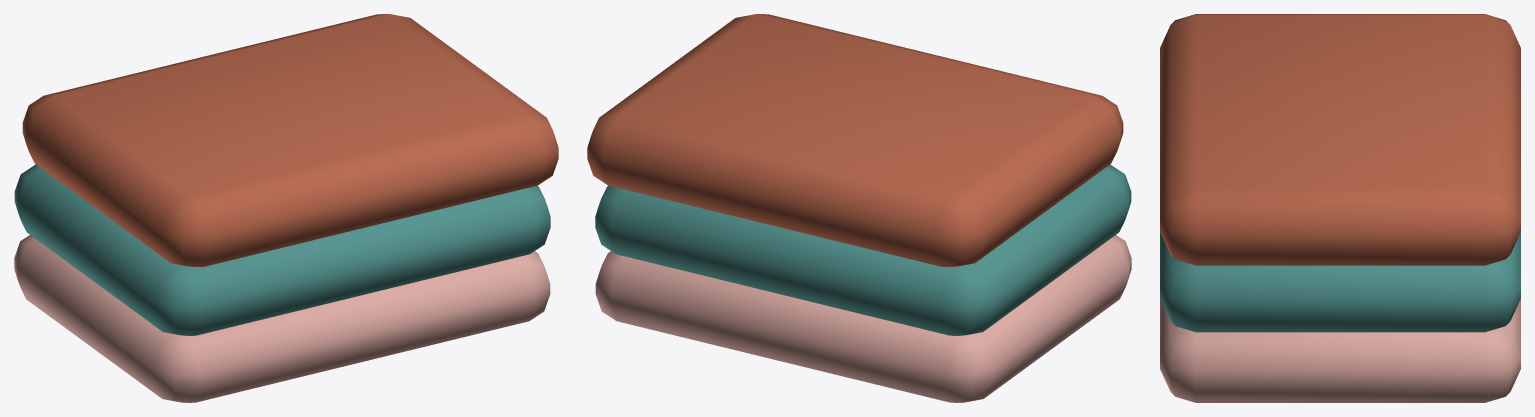
Rendered from i_plaid_0.glb.
3 views of the same model, side by side, from view 1: azimuth 30°, elevation 25°; view 2: azimuth 150°, elevation 25°; view 3: azimuth 270°, elevation 25° (orthographic). The views are drawn at different scales.
Parts seen in each view (by area): view 1: o.002, o.001, o; view 2: o.002, o.001, o; view 3: o.002, o, o.001.
Part boxes in pixels (bbox=[...]): o.002: bbox=[22, 14, 558, 266]; o.001: bbox=[14, 164, 550, 335]; o: bbox=[14, 235, 550, 402]; o.002: bbox=[587, 14, 1123, 266]; o.001: bbox=[595, 164, 1131, 335]; o: bbox=[595, 235, 1131, 402]; o.002: bbox=[1160, 14, 1520, 265]; o: bbox=[1160, 299, 1520, 402]; o.001: bbox=[1160, 232, 1520, 332].
Size of the model in its own units: 0.4087 by 0.2 by 0.3.
